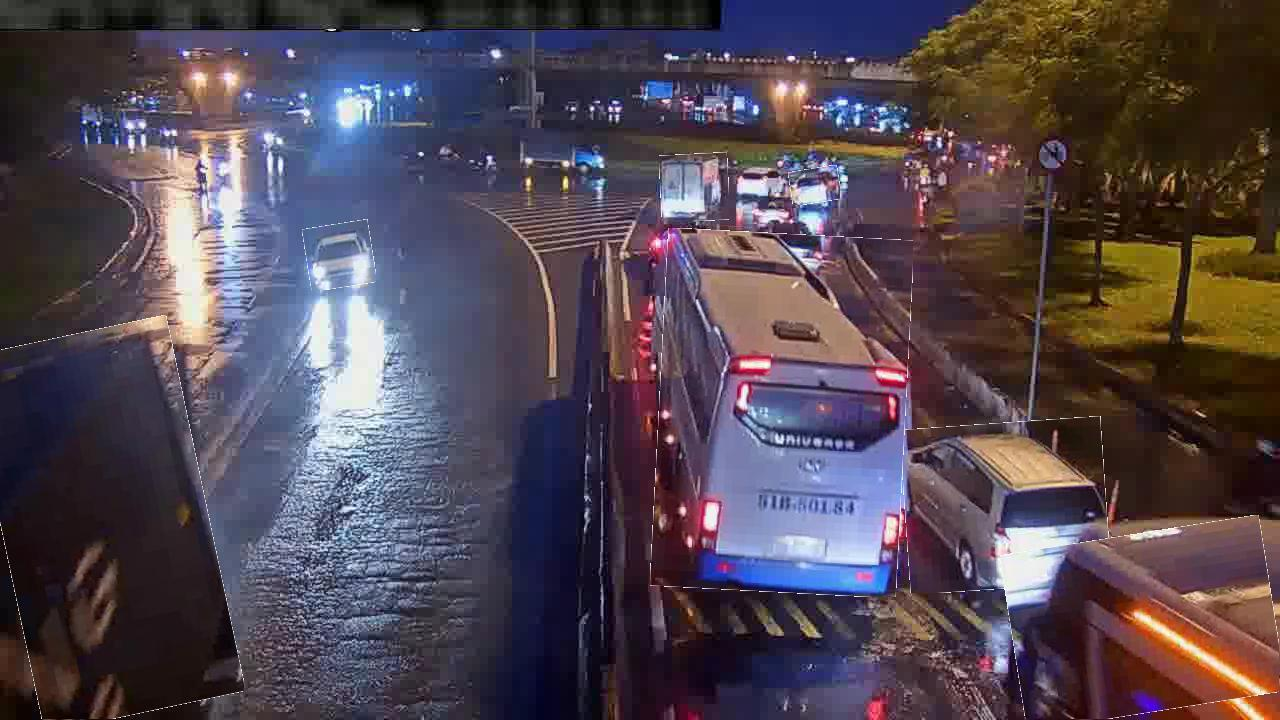14: (654, 231, 910, 595), (1006, 524, 1279, 719)
8: (0, 323, 226, 719), (660, 153, 730, 222)
container: (902, 420, 1109, 591), (305, 222, 375, 289), (789, 167, 840, 205)
